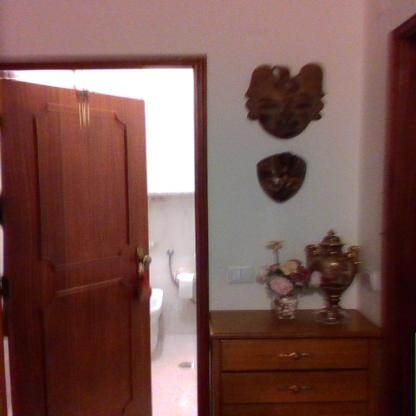semi: (1, 45, 217, 415)
